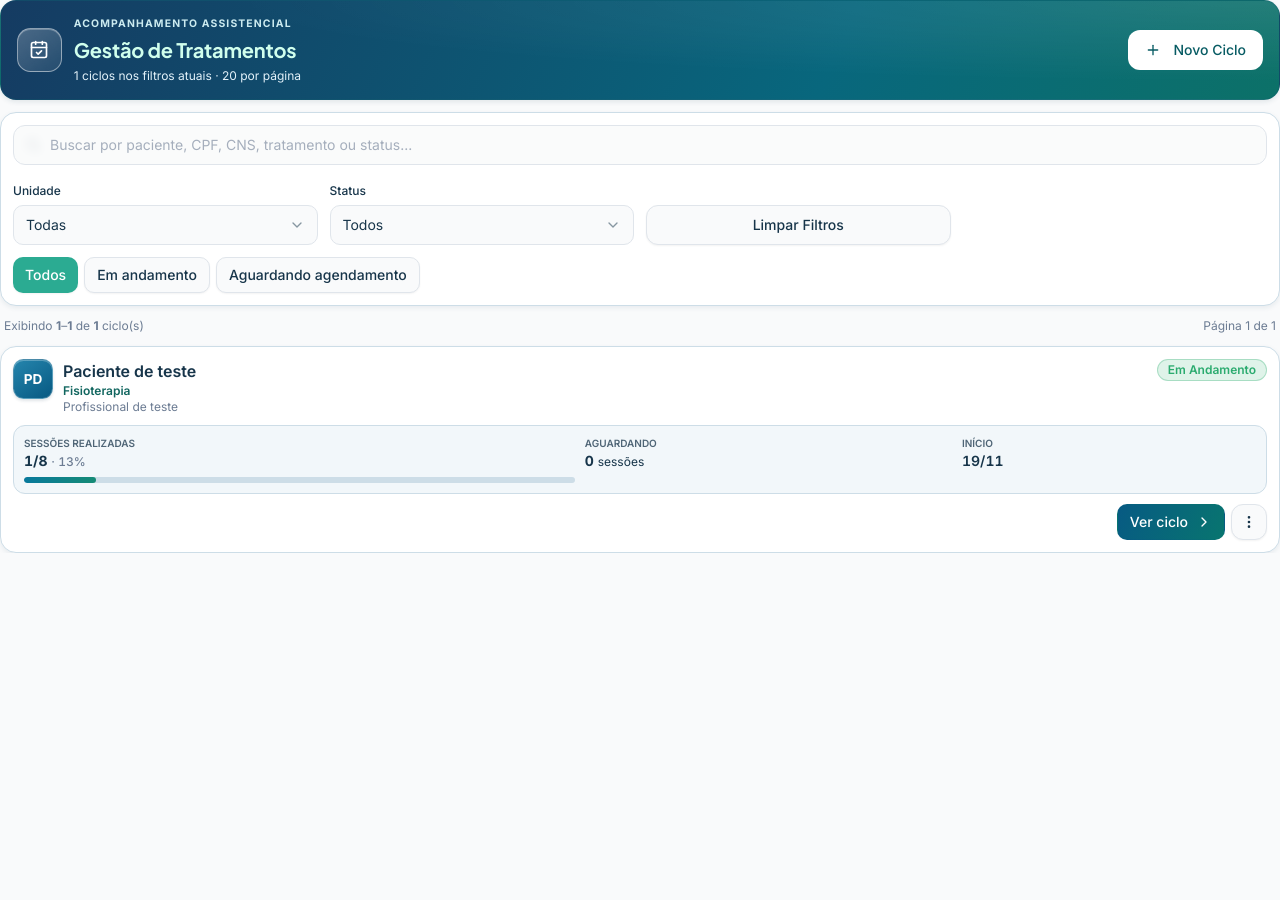
Sinalização das datas das sessões › abre a remarcação existente para a sessão agendada do dia anterior
Click the text "Paciente de teste".
click(130, 371)  # box [63,361,196,381]
(page scrolled)
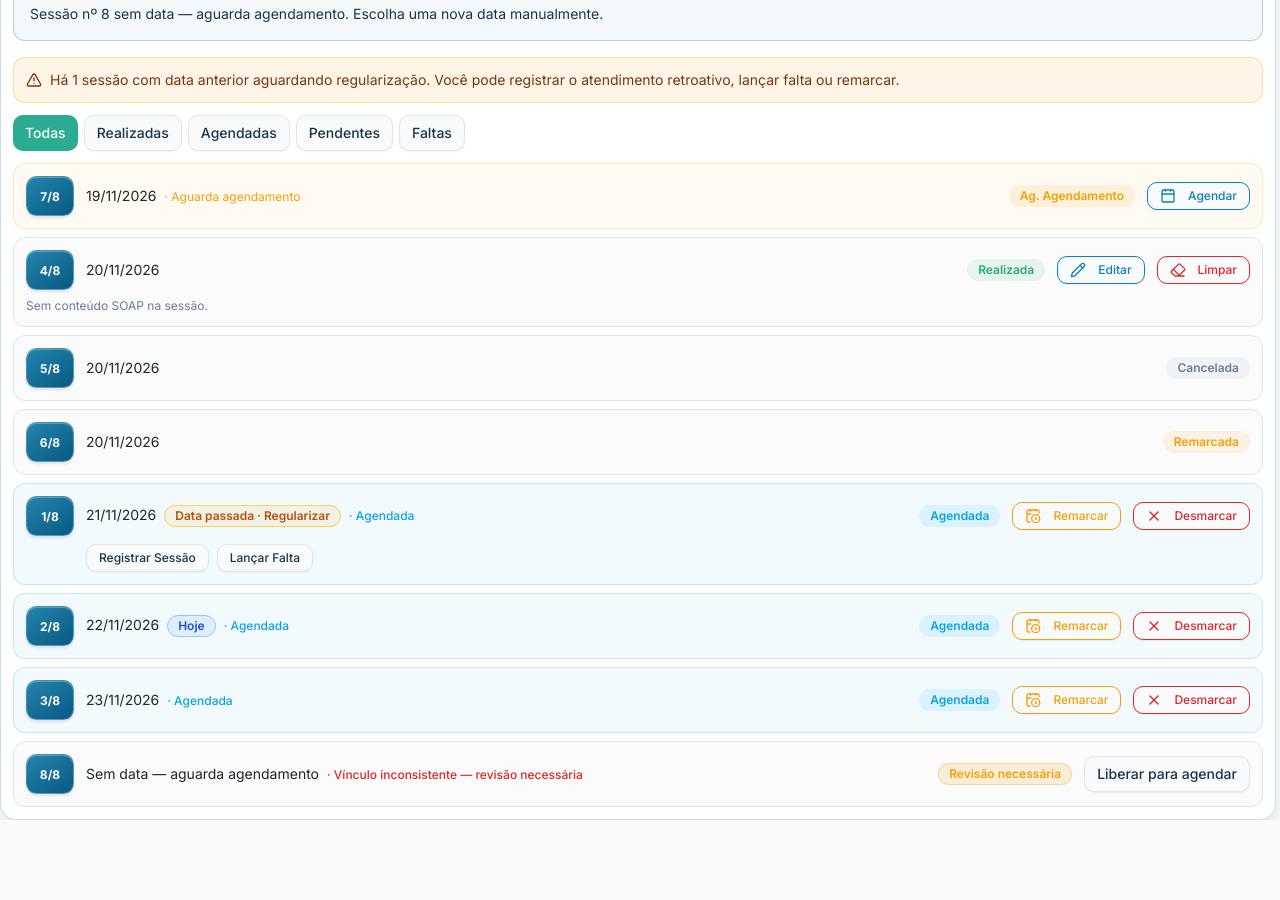
Click the button "Remarcar" in the row of "Data passada · Regularizar".
click(1067, 516)  # box [1012,502,1121,530]
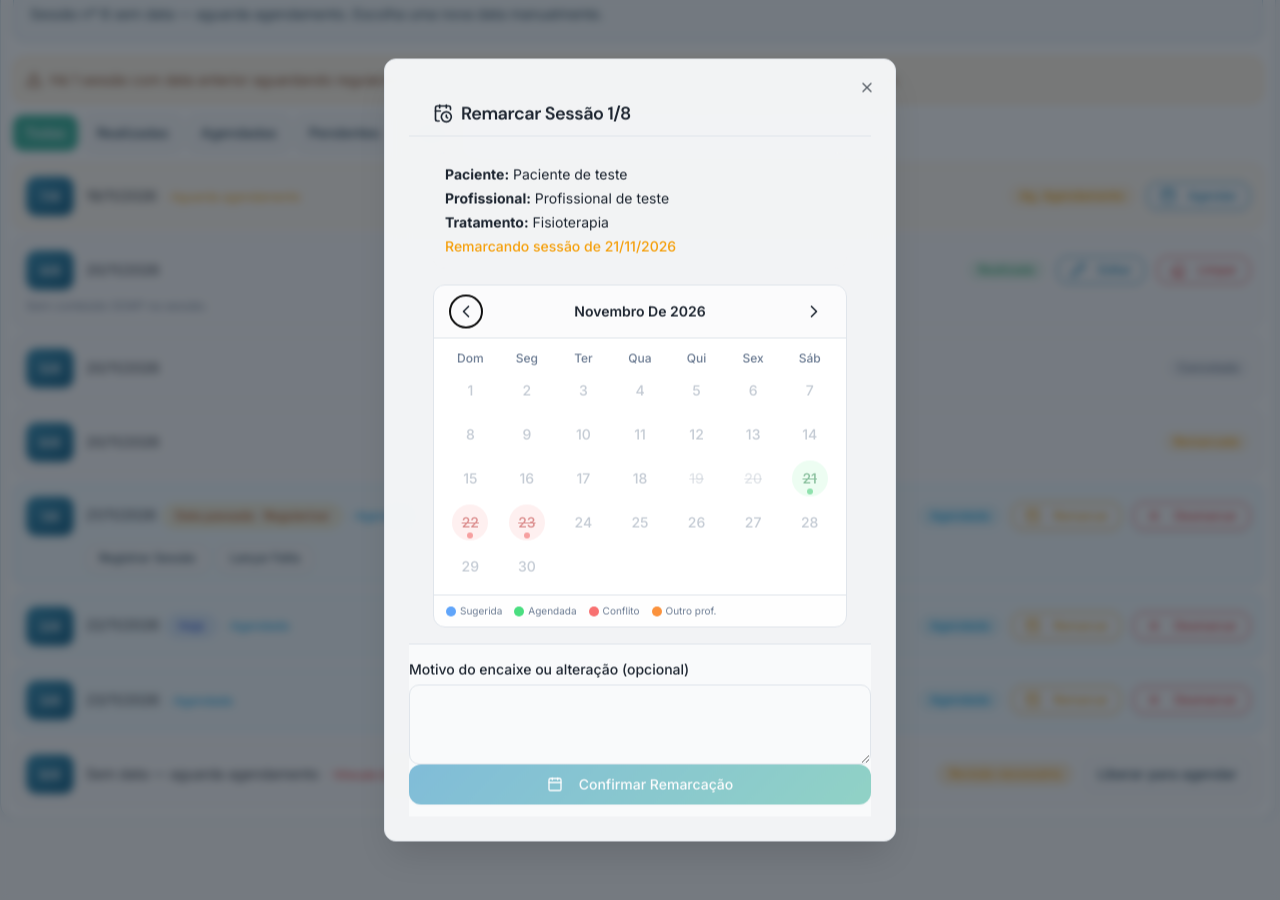
Expected: the dialog "Remarcar Sessão 1/8" is shown, [384,58,896,842]
